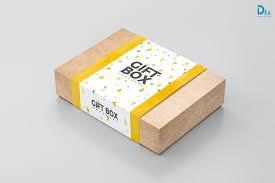box: (54, 26, 224, 156)
